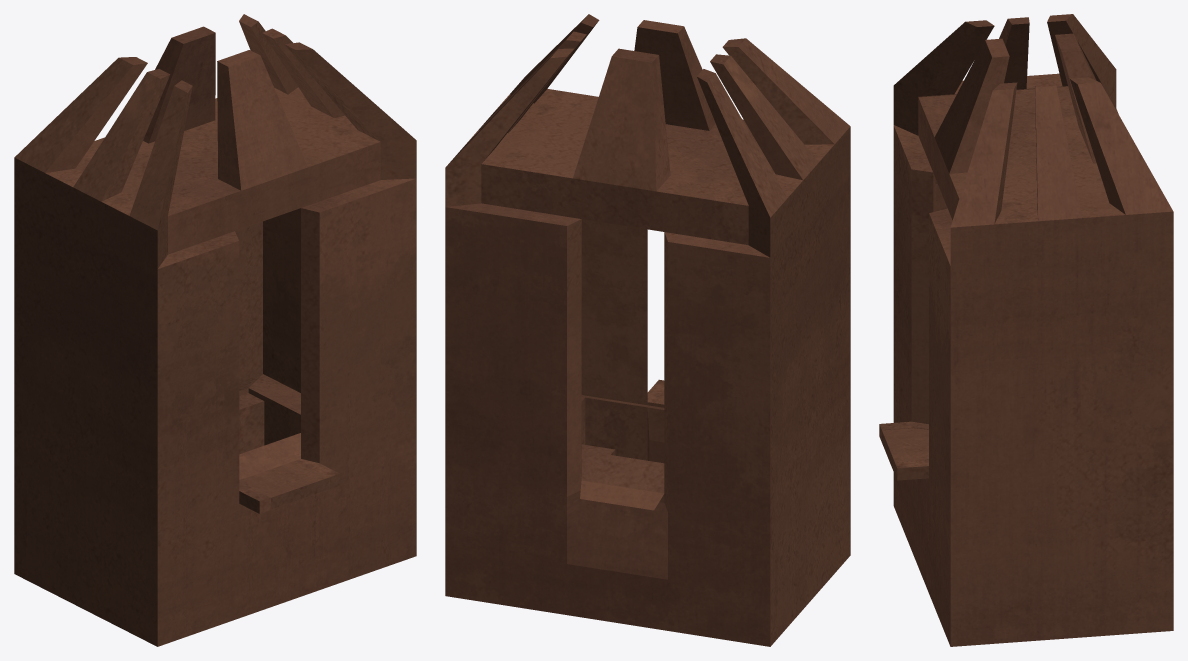
The model's file is Tower4.fbx.
3 renders of one model, left to right at view 1: azimuth 30°, elevation 25°; view 2: azimuth 150°, elevation 25°; view 3: azimuth 270°, elevation 25°, orthographic. The views are drawn at different scales.
Visible parts, largest first — view 1: Fight 4; view 2: Fight 4; view 3: Fight 4.
Part boxes in pixels (x1,y1,x2,y2): Fight 4: (14,14,416,646); Fight 4: (445,14,850,646); Fight 4: (879,14,1173,646).
Bounding box in the file's own units: 7937 × 12293 × 6265.
Materials: 1 (1 with a texture image).
